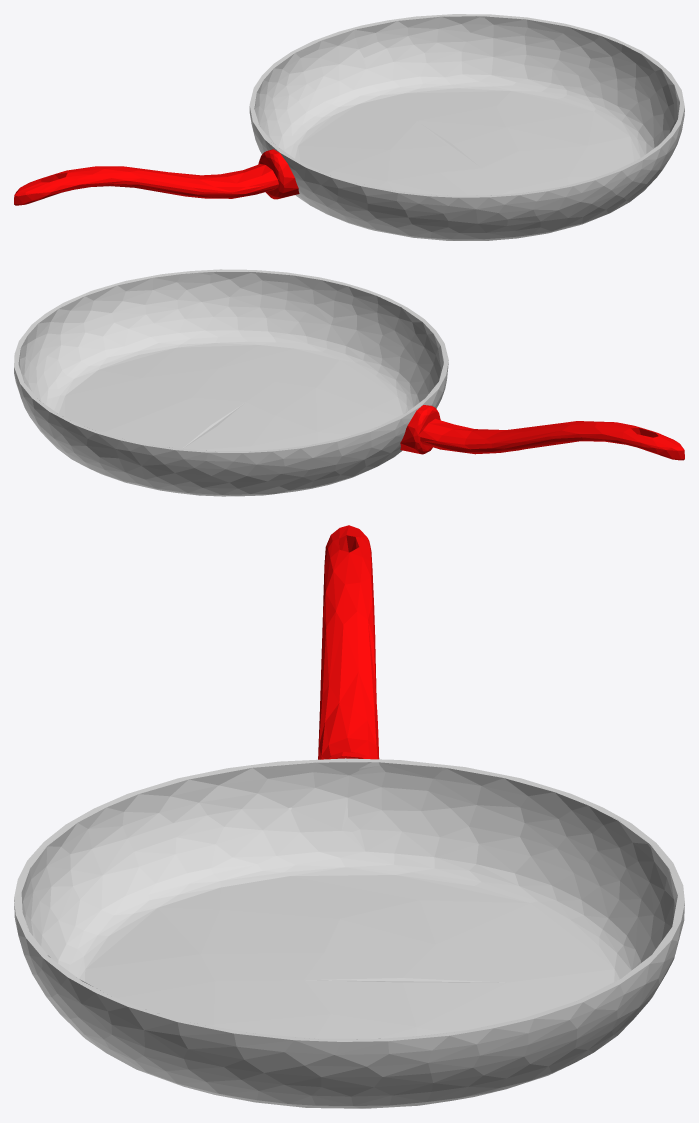
File: Pan.dae
The picture shows the model from 3 angles, top to bottom: view 1: azimuth 30°, elevation 25°; view 2: azimuth 150°, elevation 25°; view 3: azimuth 270°, elevation 25°; orthographic projection. The views are drawn at different scales.
Visible parts, largest first — view 1: node3, node0; view 2: node3, node0; view 3: node3, node0.
Part boxes in pixels (x1,y1,x2,y2): node3: (249, 14, 684, 240); node0: (14, 149, 299, 205); node3: (14, 269, 448, 496); node0: (400, 405, 684, 460); node3: (14, 758, 684, 1108); node0: (318, 525, 379, 759).
Bounding box in the file's own units: 0.3908 × 0.2294 × 0.0528.
